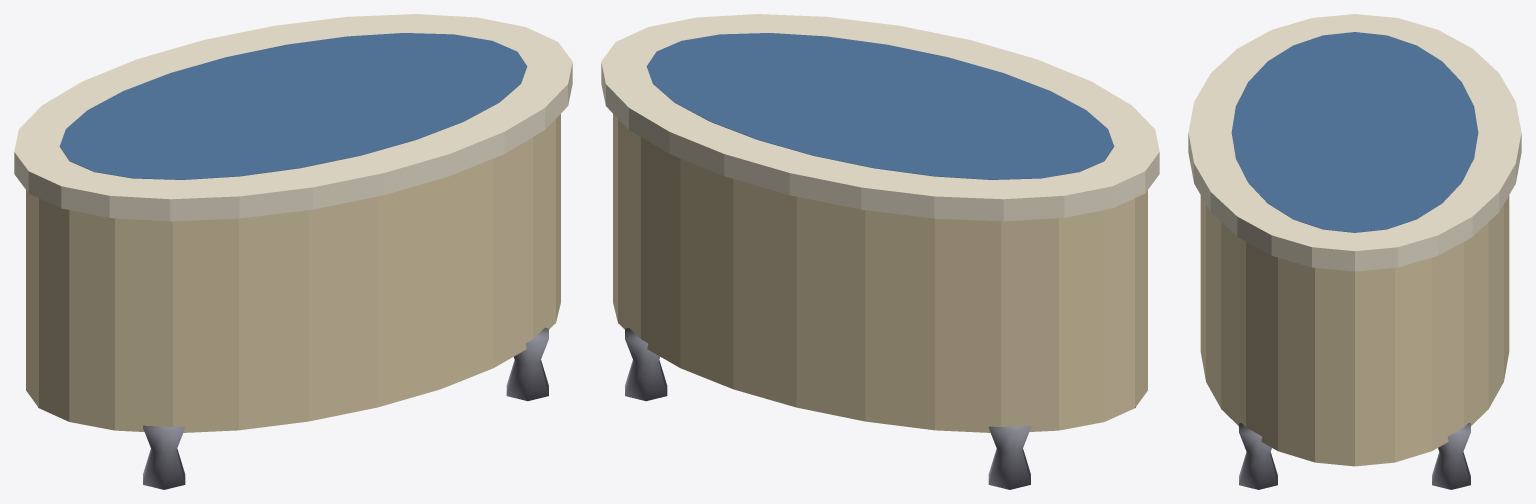
Rendered from bathtub.glb.
3 renders of one model, left to right at view 1: azimuth 30°, elevation 25°; view 2: azimuth 150°, elevation 25°; view 3: azimuth 270°, elevation 25°, orthographic. The views are drawn at different scales.
Visible parts, largest first — view 1: bathtub; view 2: bathtub; view 3: bathtub.
Boxes of the visible parts, box(x1,y1,x2,y2) form: bathtub: box(14, 14, 572, 489); bathtub: box(601, 14, 1159, 489); bathtub: box(1188, 14, 1521, 489).
Bounding box in the file's own units: 0.8736 × 0.458 × 0.5184.
